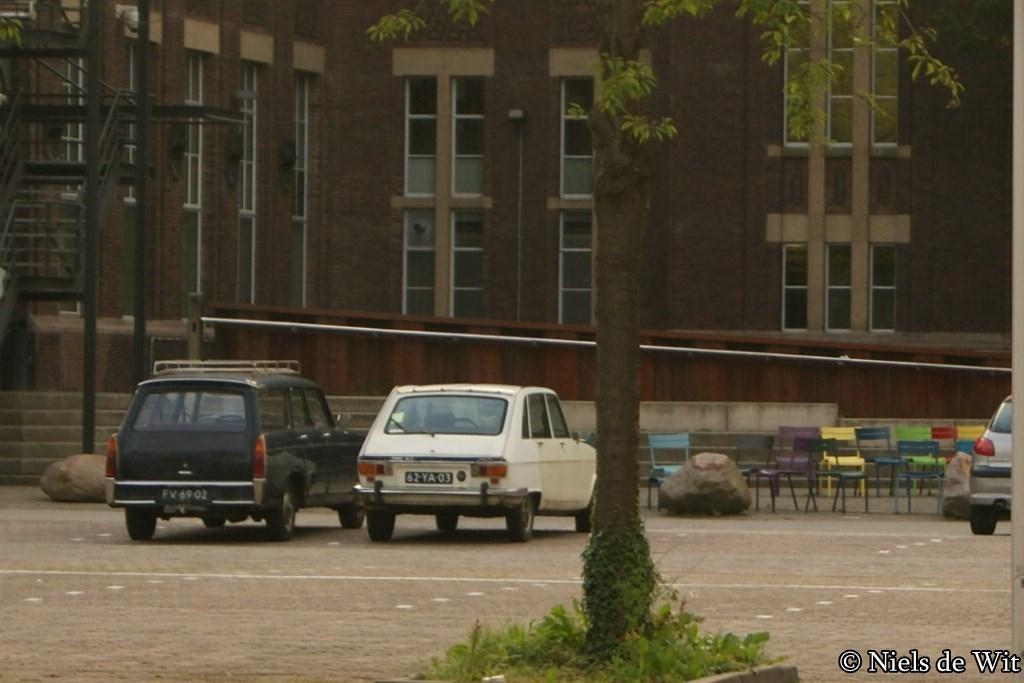Car: (66, 311, 353, 539), (360, 336, 606, 568), (937, 353, 1024, 562)
Number plate: (402, 464, 464, 500), (153, 480, 207, 509)
